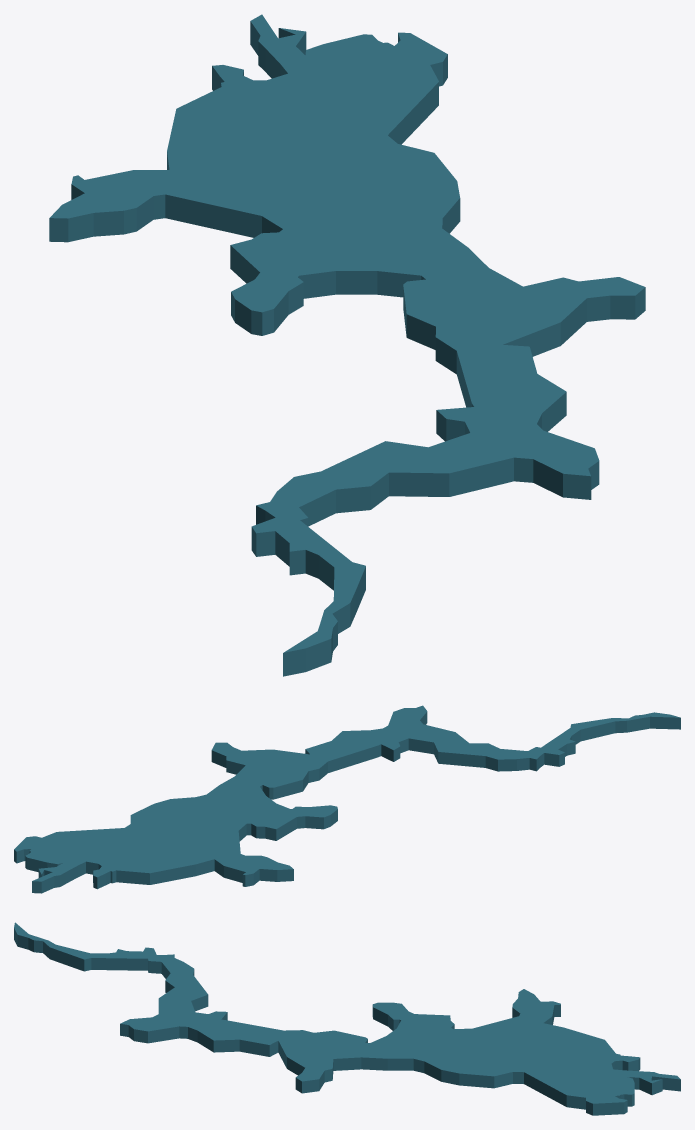
Rendered from littlemagothy.glb.
The picture shows the model from 3 angles, top to bottom: view 1: azimuth 30°, elevation 25°; view 2: azimuth 150°, elevation 25°; view 3: azimuth 270°, elevation 25°; orthographic projection. The views are drawn at different scales.
Parts seen in each view (by area): view 1: littlemagothy; view 2: littlemagothy; view 3: littlemagothy.
Boxes of the visible parts, <box> form: littlemagothy: <box>49,14,645,676</box>; littlemagothy: <box>14,705,680,893</box>; littlemagothy: <box>14,922,680,1115</box>.
Size of the model in its own units: 1.6 by 0.0492 by 2.48.
